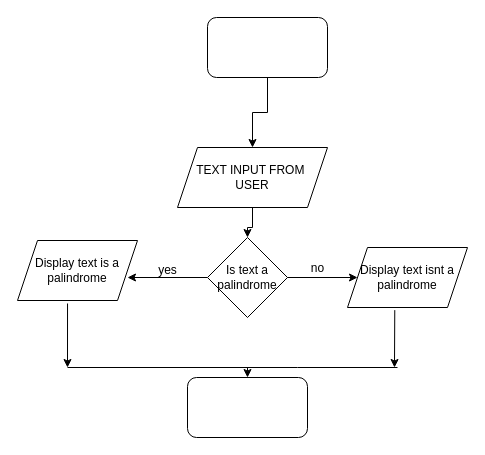
Some shapes in this 485 by 455 pixel diagram are drawn without their labels. The shapes that lost their labels are listed below. From the top down, each one's box as (x1, y1, x2, y2) in pixels, then its label:
(206, 16, 328, 78): START
(186, 376, 308, 438): STOP
